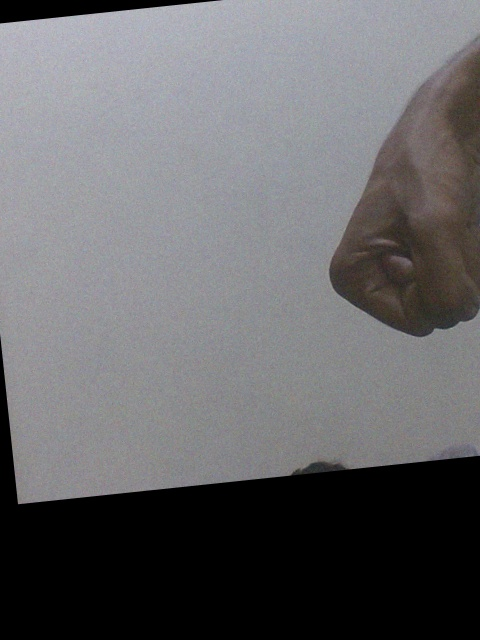hand: (324, 97, 480, 340)
